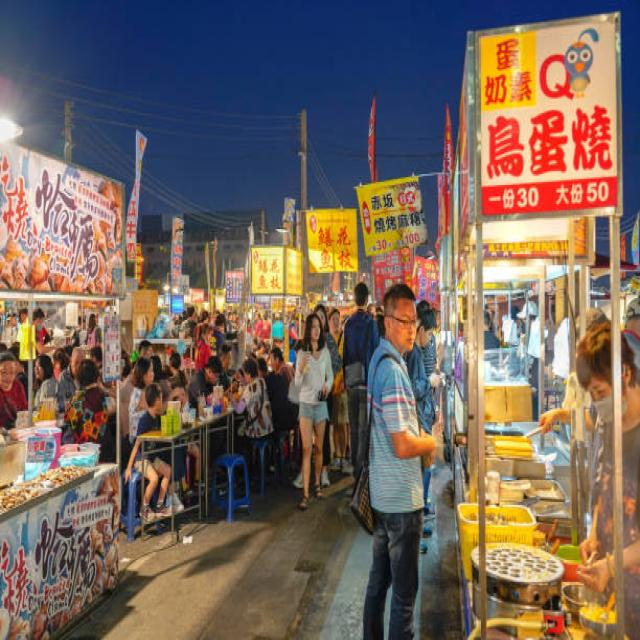Emperan: (429, 3, 640, 639), (0, 139, 132, 640)
